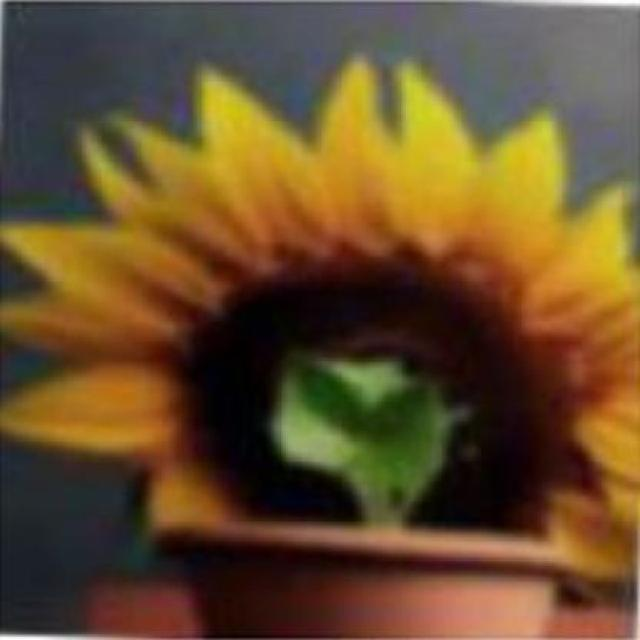sunflower: (0, 36, 638, 550)
